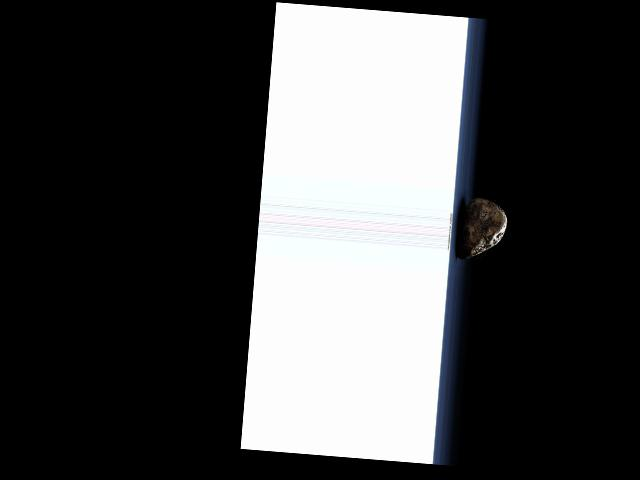beet: (457, 195, 508, 261)
